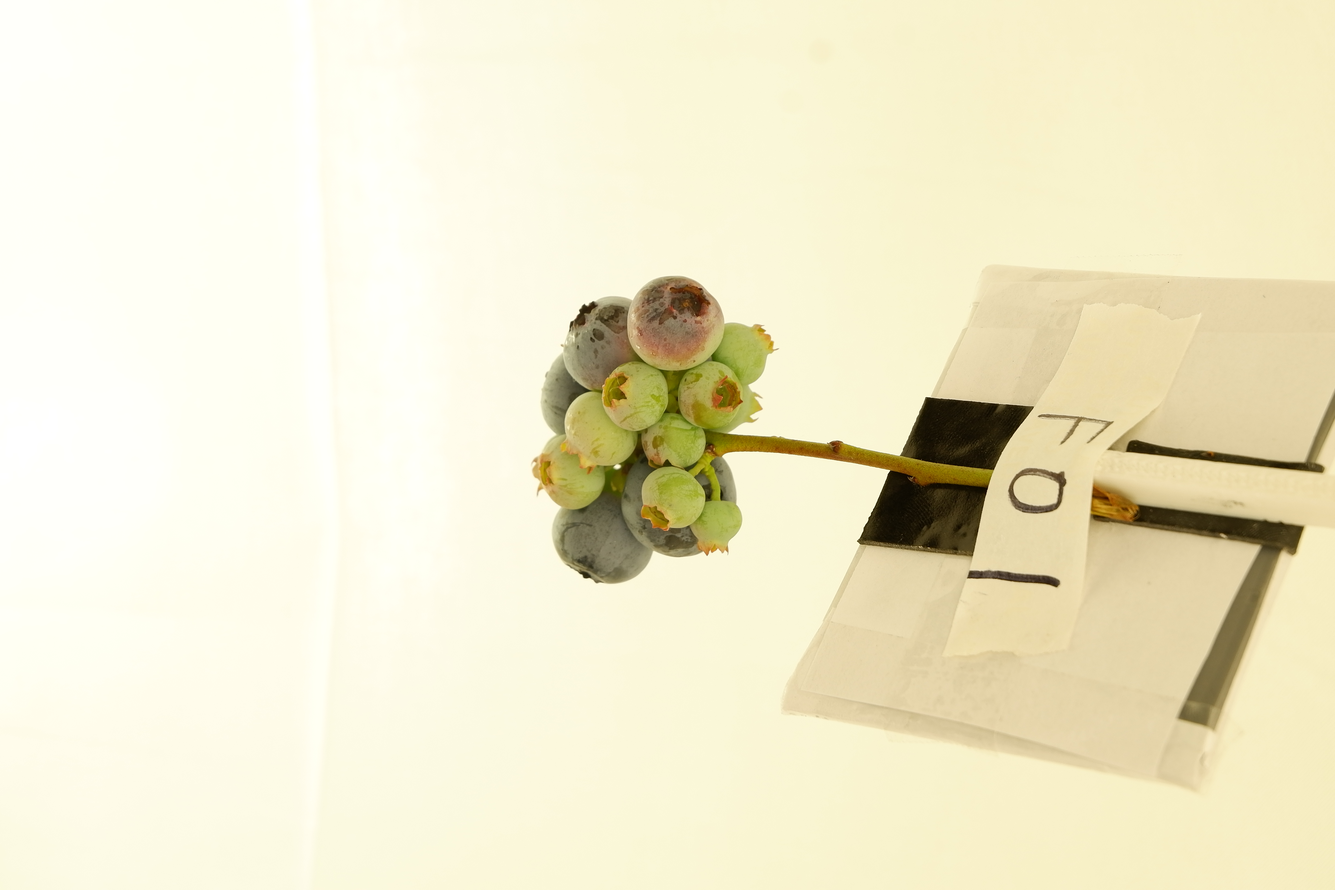Immature: (627, 275, 726, 371), (564, 295, 645, 393), (560, 391, 639, 475), (531, 435, 607, 509), (601, 361, 668, 432), (678, 362, 744, 430), (640, 466, 705, 531), (712, 323, 778, 387), (641, 413, 706, 469), (688, 499, 744, 556), (708, 385, 764, 434)
Mature: (622, 451, 737, 558), (552, 493, 654, 584), (541, 351, 593, 437)
